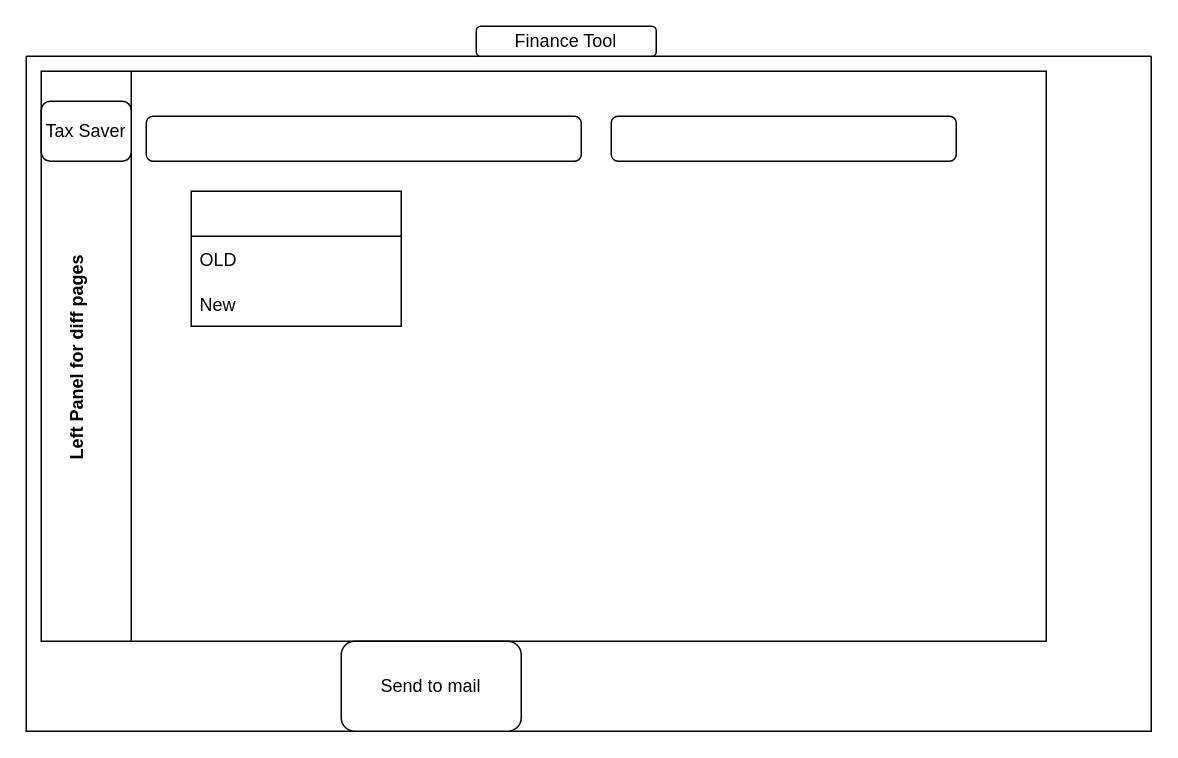
This 1178x758 diagram has some shape labels left out. Each missing label, with the box of its shape:
Current Income Per Year: (145, 115, 581, 161)
Select Tax Regime: (190, 190, 401, 326)
